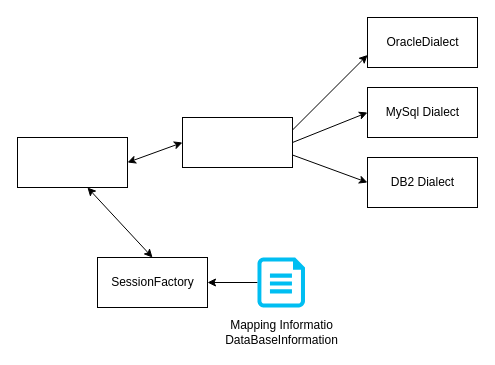
Image size: 495x365. Some labels were removed from this diagram. Here are the shapes that lost their labels. From the top down, the box of each, then its label:
(16, 136, 128, 188): Session
(182, 116, 292, 168): «interface» Dialect
